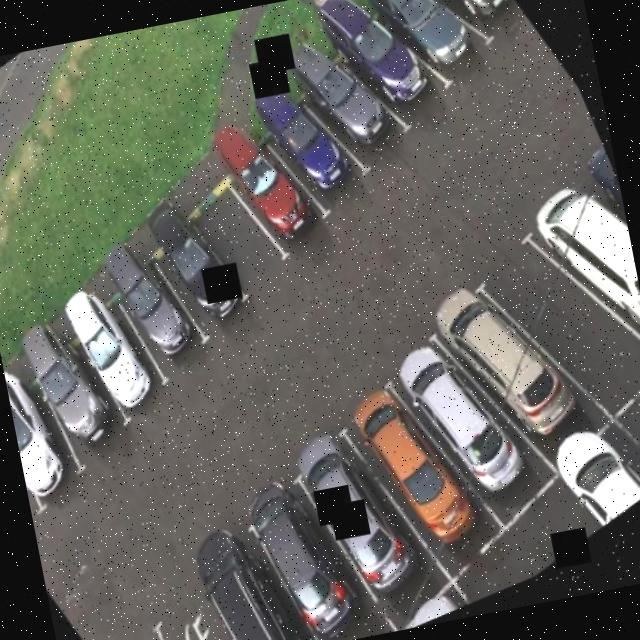empty: (470, 203, 640, 464), (158, 141, 322, 349), (106, 549, 274, 640), (595, 350, 640, 492), (90, 615, 205, 640)
occupied: (261, 389, 463, 640), (322, 348, 510, 600), (422, 254, 612, 501), (378, 320, 555, 556), (189, 85, 355, 298), (219, 451, 399, 640), (0, 300, 160, 503), (513, 150, 640, 403), (78, 218, 235, 412), (155, 486, 345, 640), (274, 16, 419, 208), (47, 264, 196, 450), (125, 179, 268, 360), (236, 59, 379, 236), (314, 0, 456, 162), (361, 0, 503, 127), (4, 359, 103, 527), (529, 398, 640, 544), (574, 124, 640, 353), (407, 0, 538, 73), (12, 402, 74, 556), (379, 581, 478, 633)
